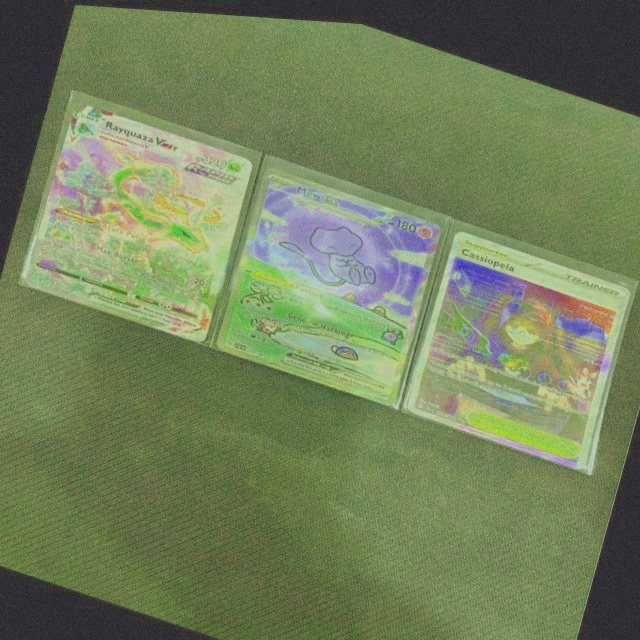card: (23, 101, 253, 340), (215, 164, 441, 401), (406, 224, 630, 462)
